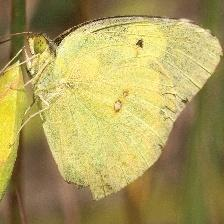butterfly: (27, 17, 223, 200)
